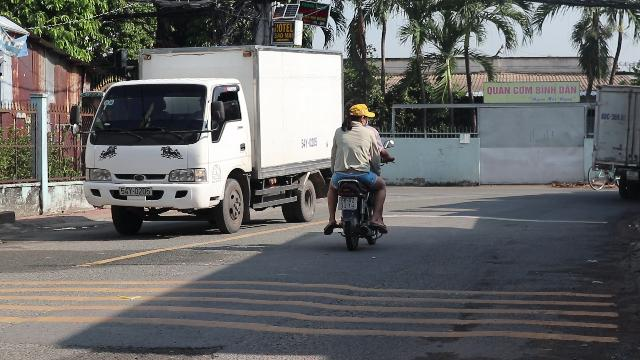licenseplate: (338, 196, 356, 208)
motorcyclist: (320, 99, 392, 249)
nohelmet: (348, 103, 374, 127)
